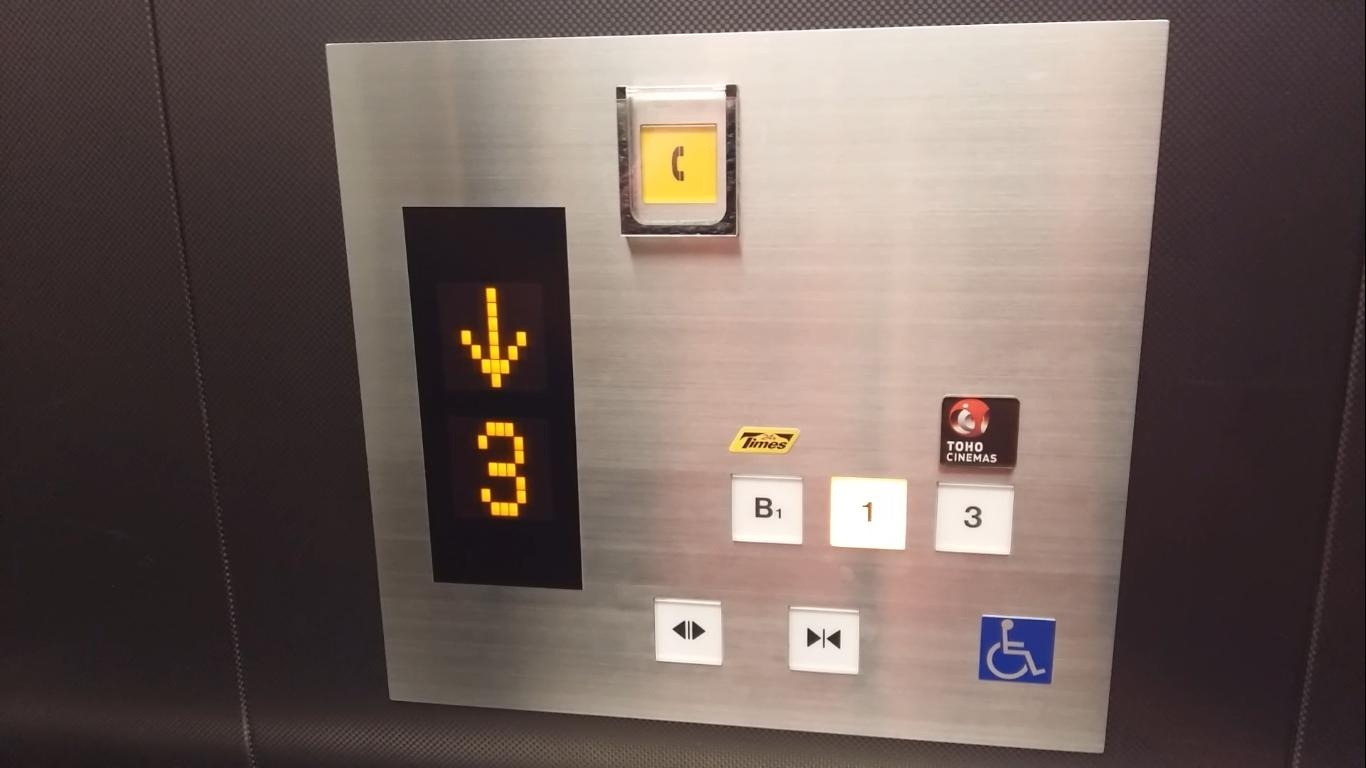1: (825, 472, 912, 554)
3: (927, 476, 1020, 561)
B1: (726, 470, 809, 548)
CH: (973, 610, 1060, 689)
call: (611, 81, 741, 247)
close: (783, 599, 864, 681)
led: (398, 199, 587, 594)
open: (650, 592, 728, 669)
